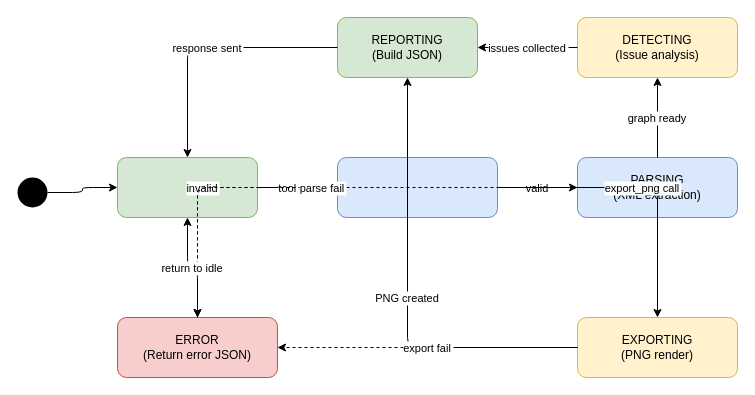
The diagram is 755 pixels wide and 395 high, and some of its shapes have lost their labels. The box of each missing label's shape, as (x1, y1, x2, y2) in pixels:
IDLE (Registered): (116, 156, 258, 218)
VALIDATING (file_path check): (336, 156, 498, 218)
